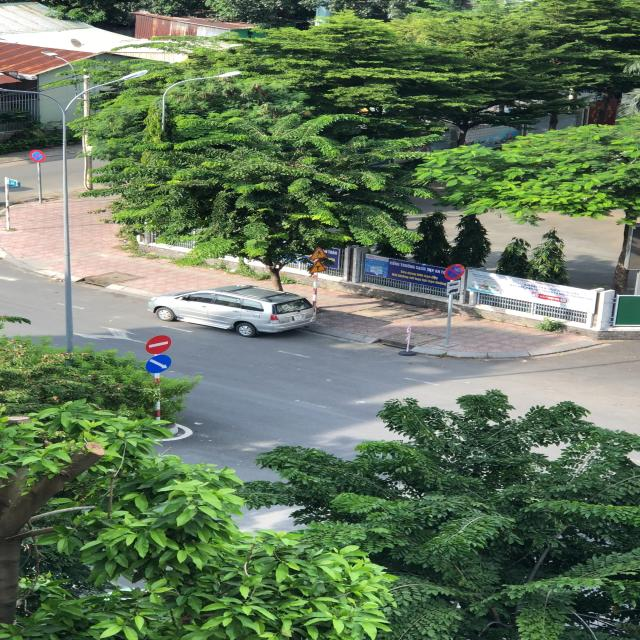Bien bao cam di nguoc chieu: (145, 334, 174, 356)
Bien bao cam dung xe va do xe: (441, 263, 469, 282)
Bien bao duong giao nhau: (308, 259, 331, 274)
Bien bao duong nguoi di bo cat ngang: (308, 244, 330, 260)
Bien bao huong phai di vong chuong ngai vat: (144, 354, 176, 376)
